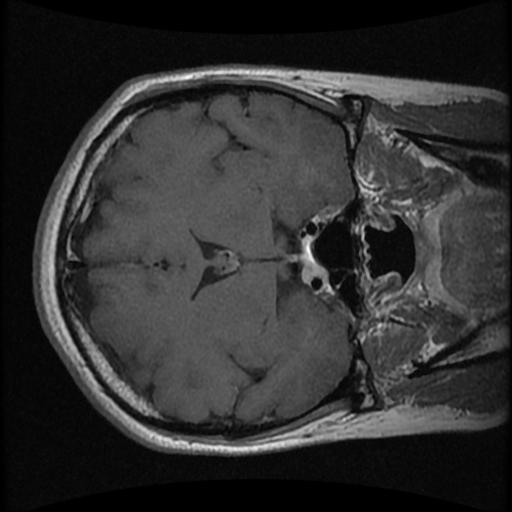pituitary tumour: (286, 234, 328, 285)
